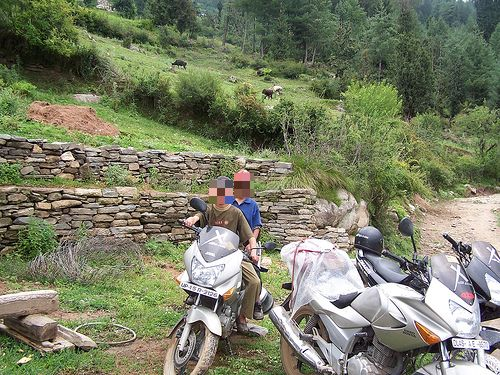bike: (274, 214, 500, 373), (165, 199, 275, 374), (360, 219, 498, 335)
